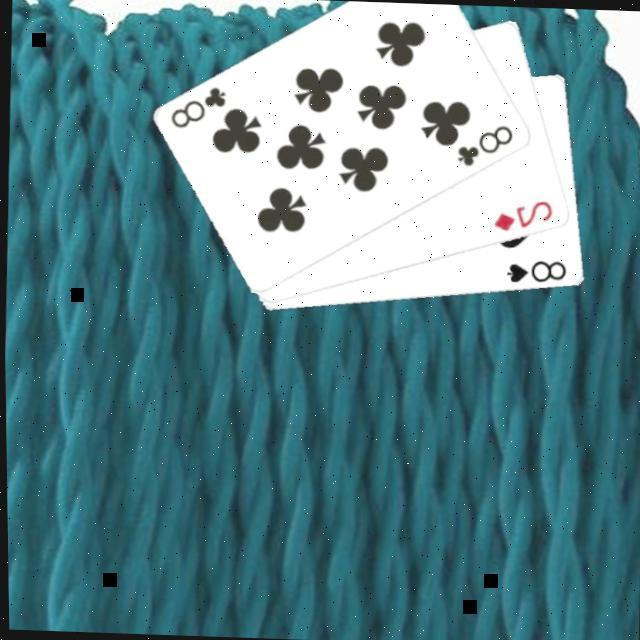2D: (487, 194, 554, 234)
8C: (450, 118, 515, 170), (164, 80, 228, 132)
8S: (500, 254, 567, 286)
